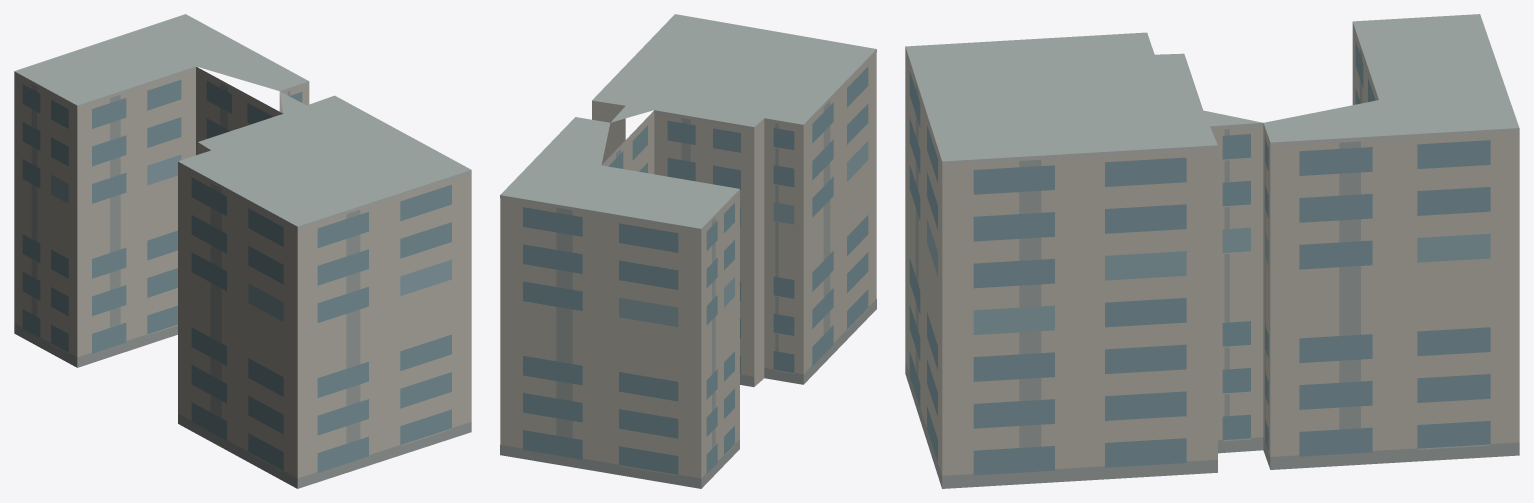
Rendered from survey-upis-32718706.glb.
The picture shows the model from 3 angles, left to right: view 1: azimuth 30°, elevation 25°; view 2: azimuth 150°, elevation 25°; view 3: azimuth 270°, elevation 25°; orthographic projection. The views are drawn at different scales.
Visible parts, largest first — view 1: survey-upis-32718706.tmp; view 2: survey-upis-32718706.tmp; view 3: survey-upis-32718706.tmp.
Boxes of the visible parts, x1,y1,x2,y2 form: survey-upis-32718706.tmp: (14,14,471,488); survey-upis-32718706.tmp: (500,14,876,488); survey-upis-32718706.tmp: (905,14,1519,488).
Size of the model in its own units: 18.94 by 19.6 by 33.32.
